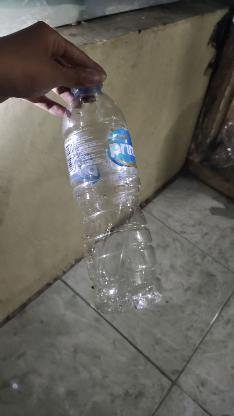Plastic Bottle: (59, 65, 163, 313)
